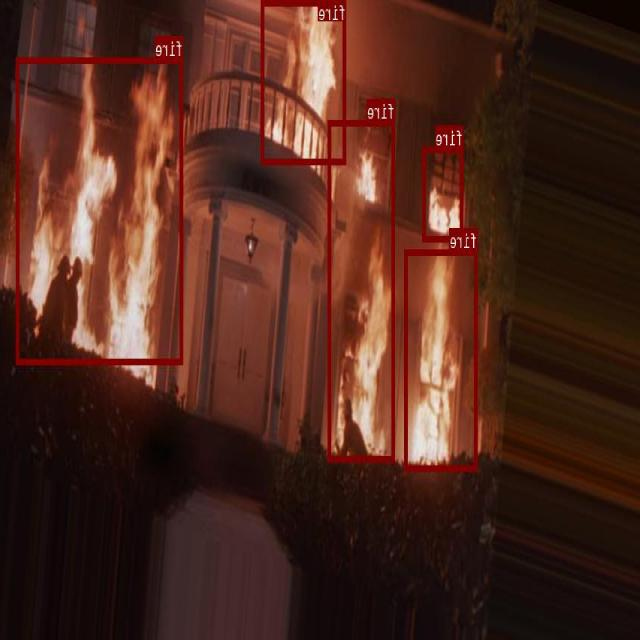fire: (17, 57, 183, 363), (329, 119, 395, 461), (405, 248, 478, 470), (261, 0, 347, 163), (424, 146, 464, 241)
